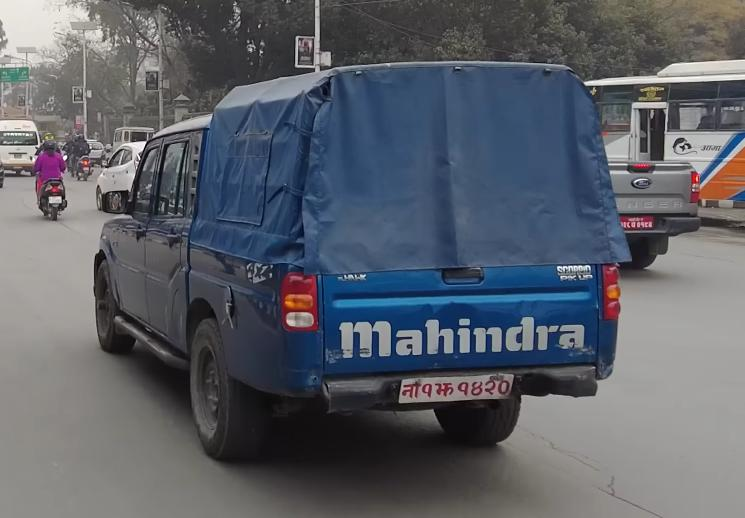police_vehicle: (84, 61, 622, 462)
